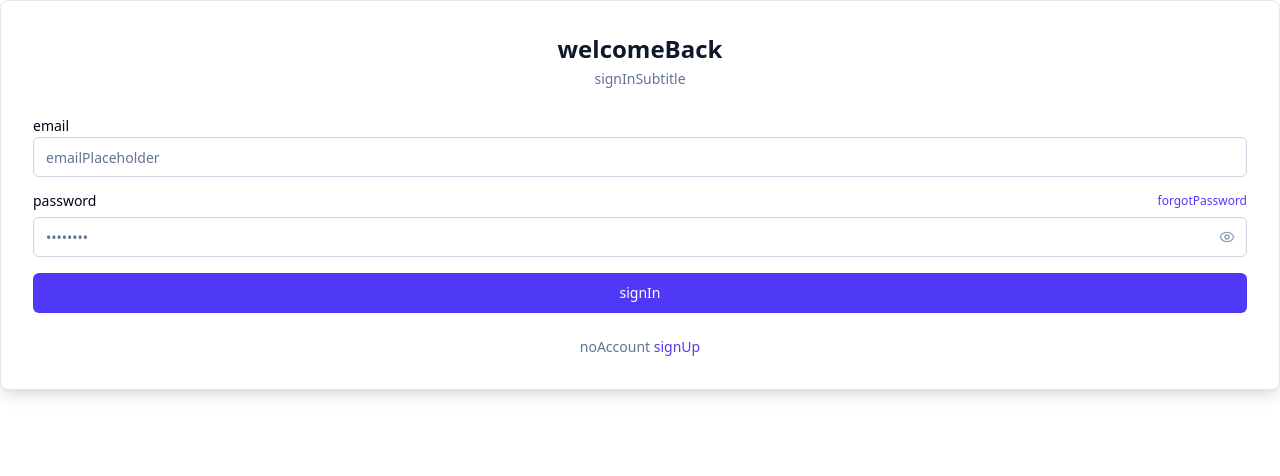
Test: Login › shows fallback error when login throws without message
Type "bad@test.com" into the field labelled "email" at (640, 157), box [33, 137, 1247, 177]
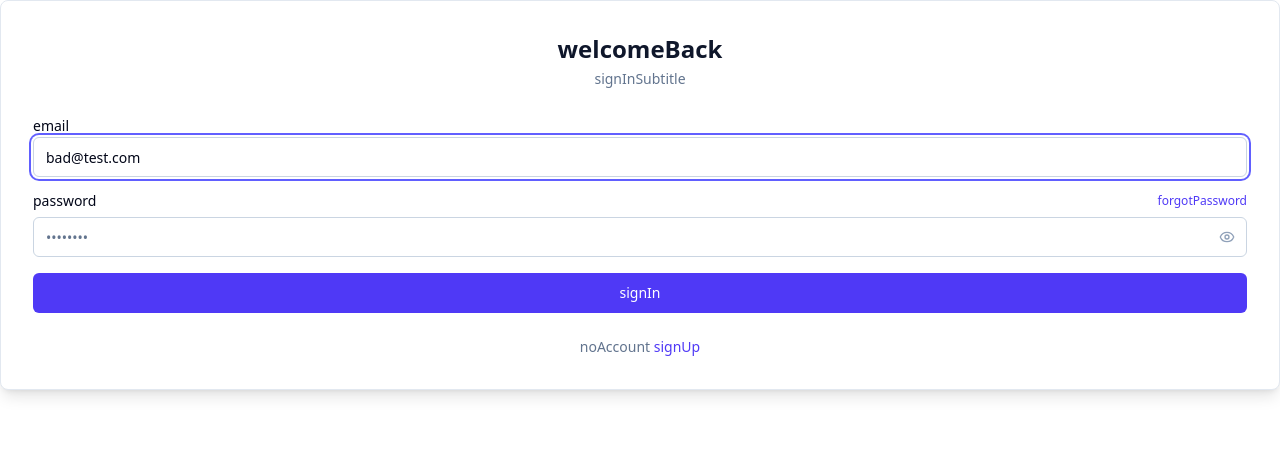
Type "wrong" into the password field labelled "password" at (640, 237), box [33, 217, 1247, 257]
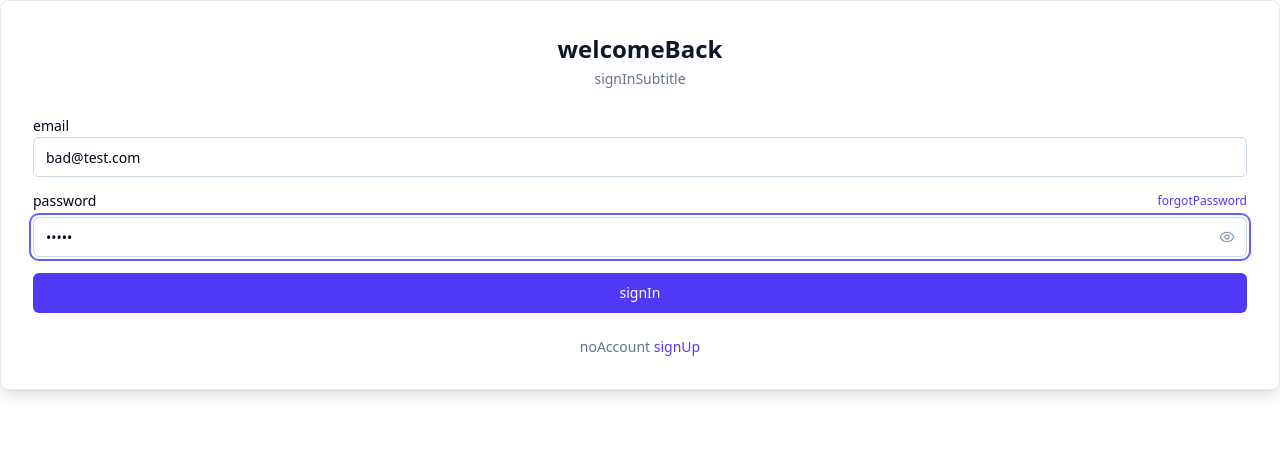
Click the button "signIn" at (640, 293), box [33, 273, 1247, 313]
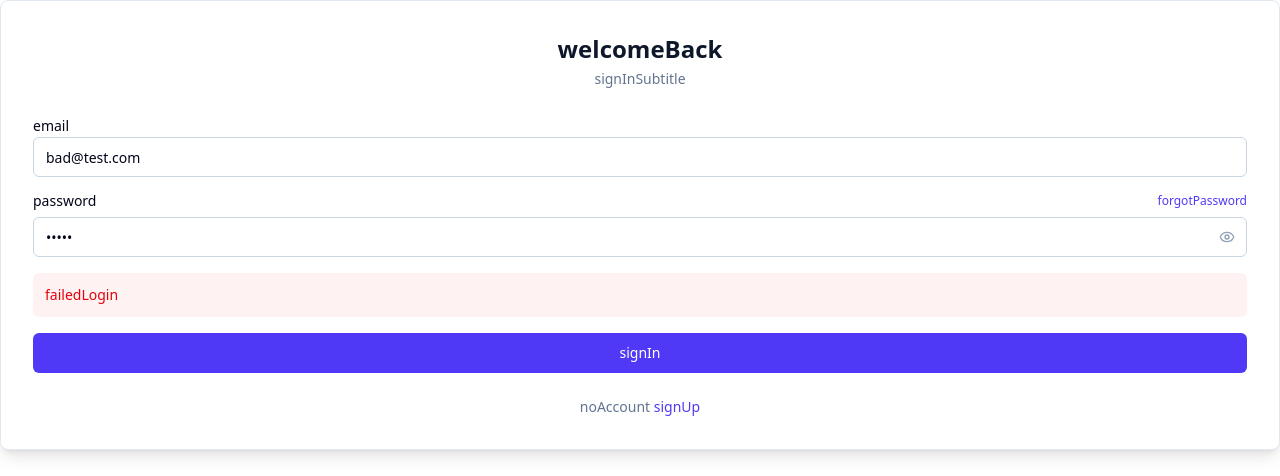
Now the text "failedLogin" is shown, box [33, 273, 1247, 317]
